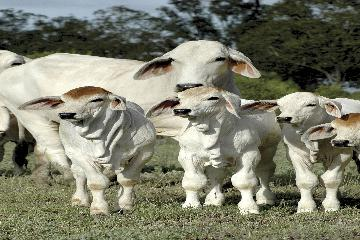cow: (53, 84, 156, 214), (172, 89, 275, 203), (142, 21, 258, 92), (277, 83, 329, 188), (332, 109, 360, 154)
